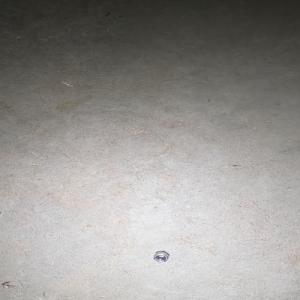Nut: (152, 251, 169, 262)
